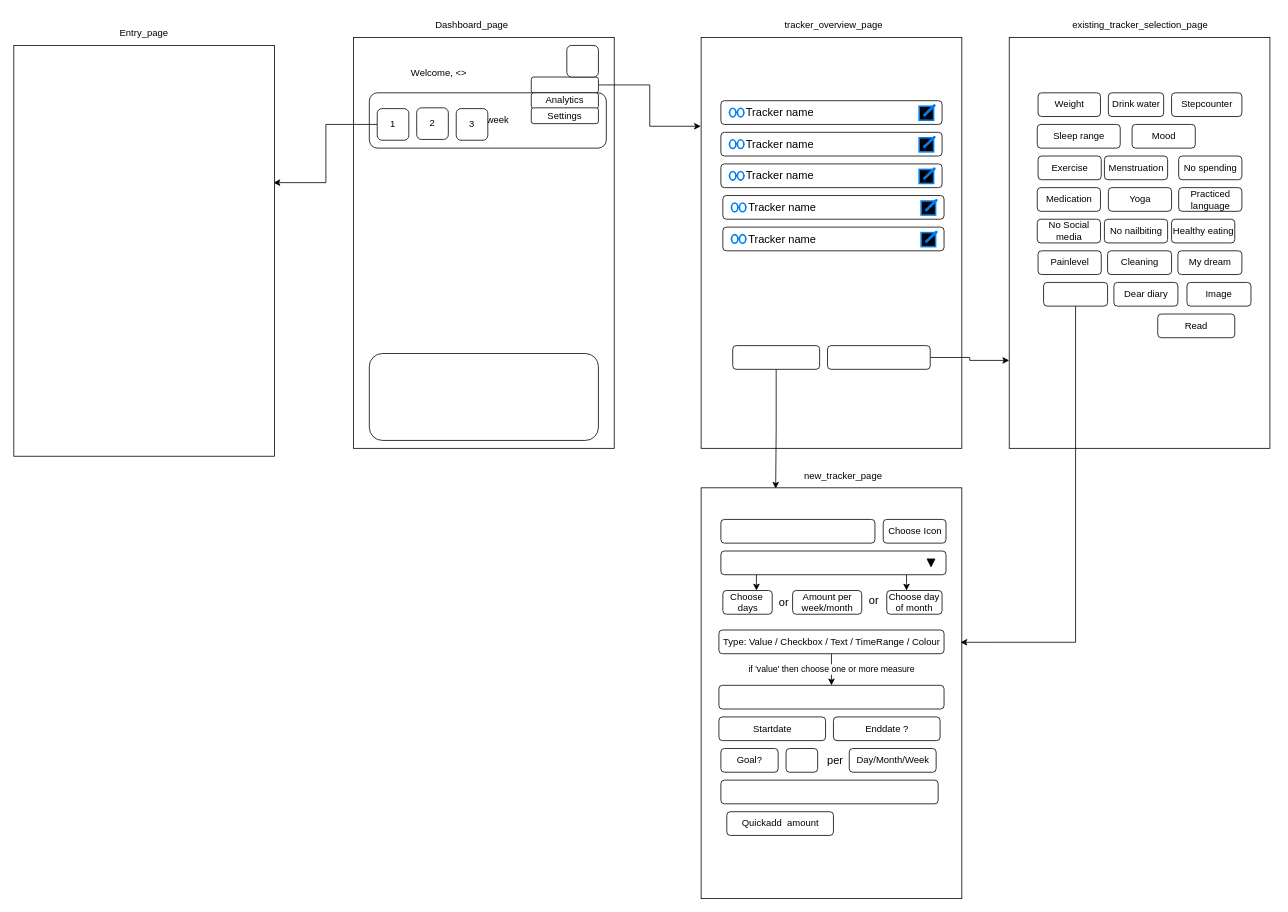
This 1288x912 diagram has some shape labels left out. The shapes that lost their labels are listed below. From the top down, each one's centre as x and y in pixels, then its label:
At point 582,61: "menu".
At point 564,84: "My trackers".
At point 144,250: "DATE".
At point 1075,294: "Im grateful for".
At point 776,357: "+ create your own".
At point 878,357: "+ add existing tracker".
At point 483,396: "Progress ? oid".
At point 797,531: "Name".
At point 833,562: "Interval: Daily/Weekly/Monthly".
At point 831,697: "mm / cm / m / ml / l / g / kg / glass(es) / +".
At point 801,760: "measu rement".
At point 829,791: "Time of Day: Morning/Afternoon/Evening/Anytime".
